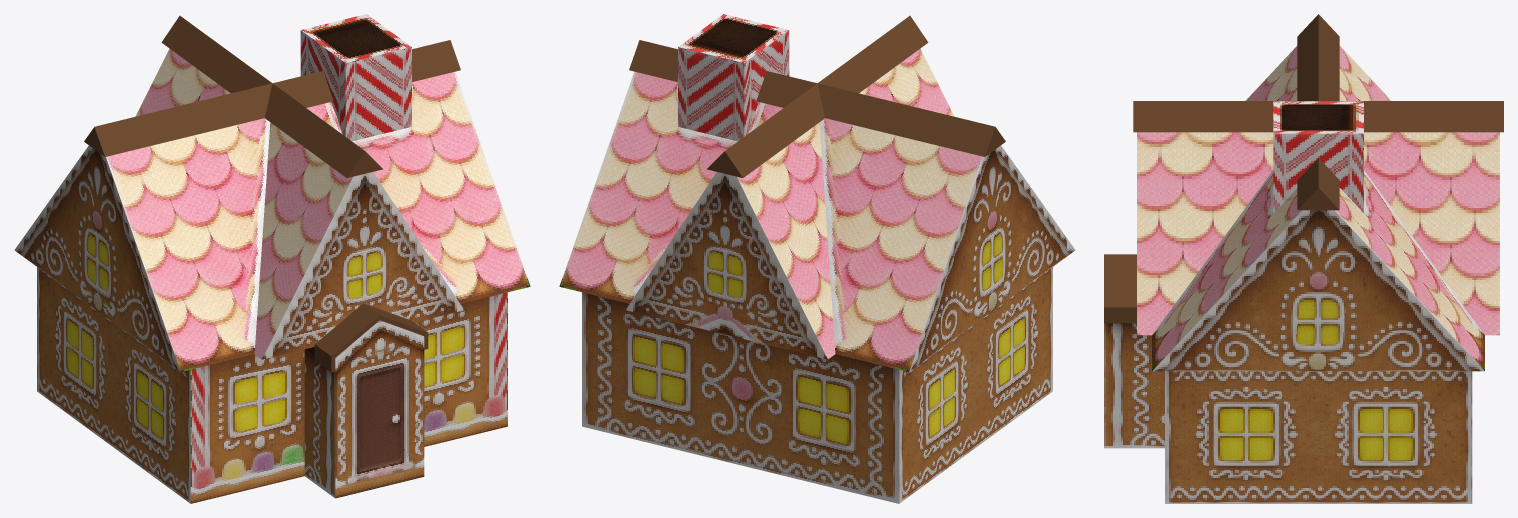
The model's file is MODEL_candyLandHouse.glb.
The picture shows the model from 3 angles, left to right: view 1: azimuth 30°, elevation 25°; view 2: azimuth 150°, elevation 25°; view 3: azimuth 270°, elevation 25°; orthographic projection.
Visible parts, largest first — view 1: candyLandHouse-col; view 2: candyLandHouse-col; view 3: candyLandHouse-col.
Boxes of the visible parts, box(x1,y1,x2,y2) form: candyLandHouse-col: box(14, 14, 530, 503); candyLandHouse-col: box(559, 14, 1075, 503); candyLandHouse-col: box(1104, 14, 1503, 503).
Size of the model in its own units: 7.07 by 6.64 by 6.88.
Materials: 3 (1 with a texture image).
